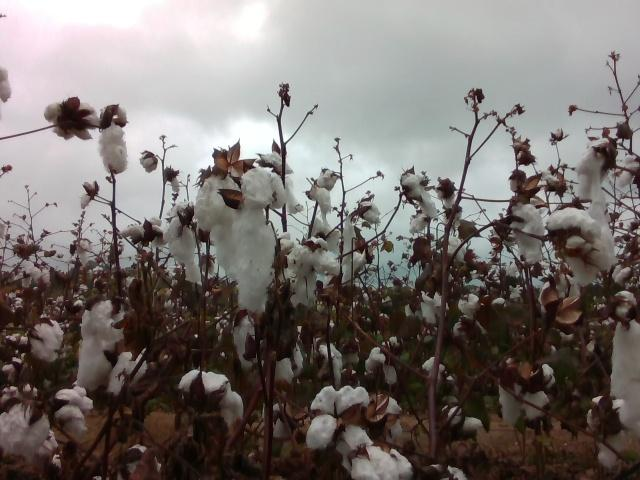cotton_ready: (194, 173, 274, 311), (547, 208, 611, 288), (77, 299, 130, 390), (305, 386, 369, 450), (499, 360, 555, 428), (177, 369, 244, 425), (288, 237, 341, 307), (610, 319, 640, 439), (0, 398, 51, 462), (586, 395, 630, 469), (576, 138, 613, 218), (309, 168, 342, 254), (52, 385, 95, 442), (349, 446, 414, 480), (45, 100, 99, 140), (99, 104, 129, 175), (512, 200, 544, 262), (241, 166, 287, 209), (108, 348, 149, 396), (342, 212, 369, 282), (27, 319, 66, 364), (166, 204, 193, 268), (115, 444, 163, 480), (401, 171, 437, 217), (273, 342, 303, 389), (232, 313, 257, 369), (375, 397, 403, 445), (365, 347, 398, 387), (444, 405, 486, 434), (122, 217, 166, 244), (422, 356, 455, 389), (420, 289, 450, 325), (318, 343, 343, 386), (268, 401, 292, 437), (618, 153, 640, 188), (613, 291, 637, 318), (431, 464, 469, 480), (446, 238, 469, 262), (458, 293, 480, 316), (361, 200, 381, 224), (408, 212, 429, 234), (0, 68, 13, 103)
